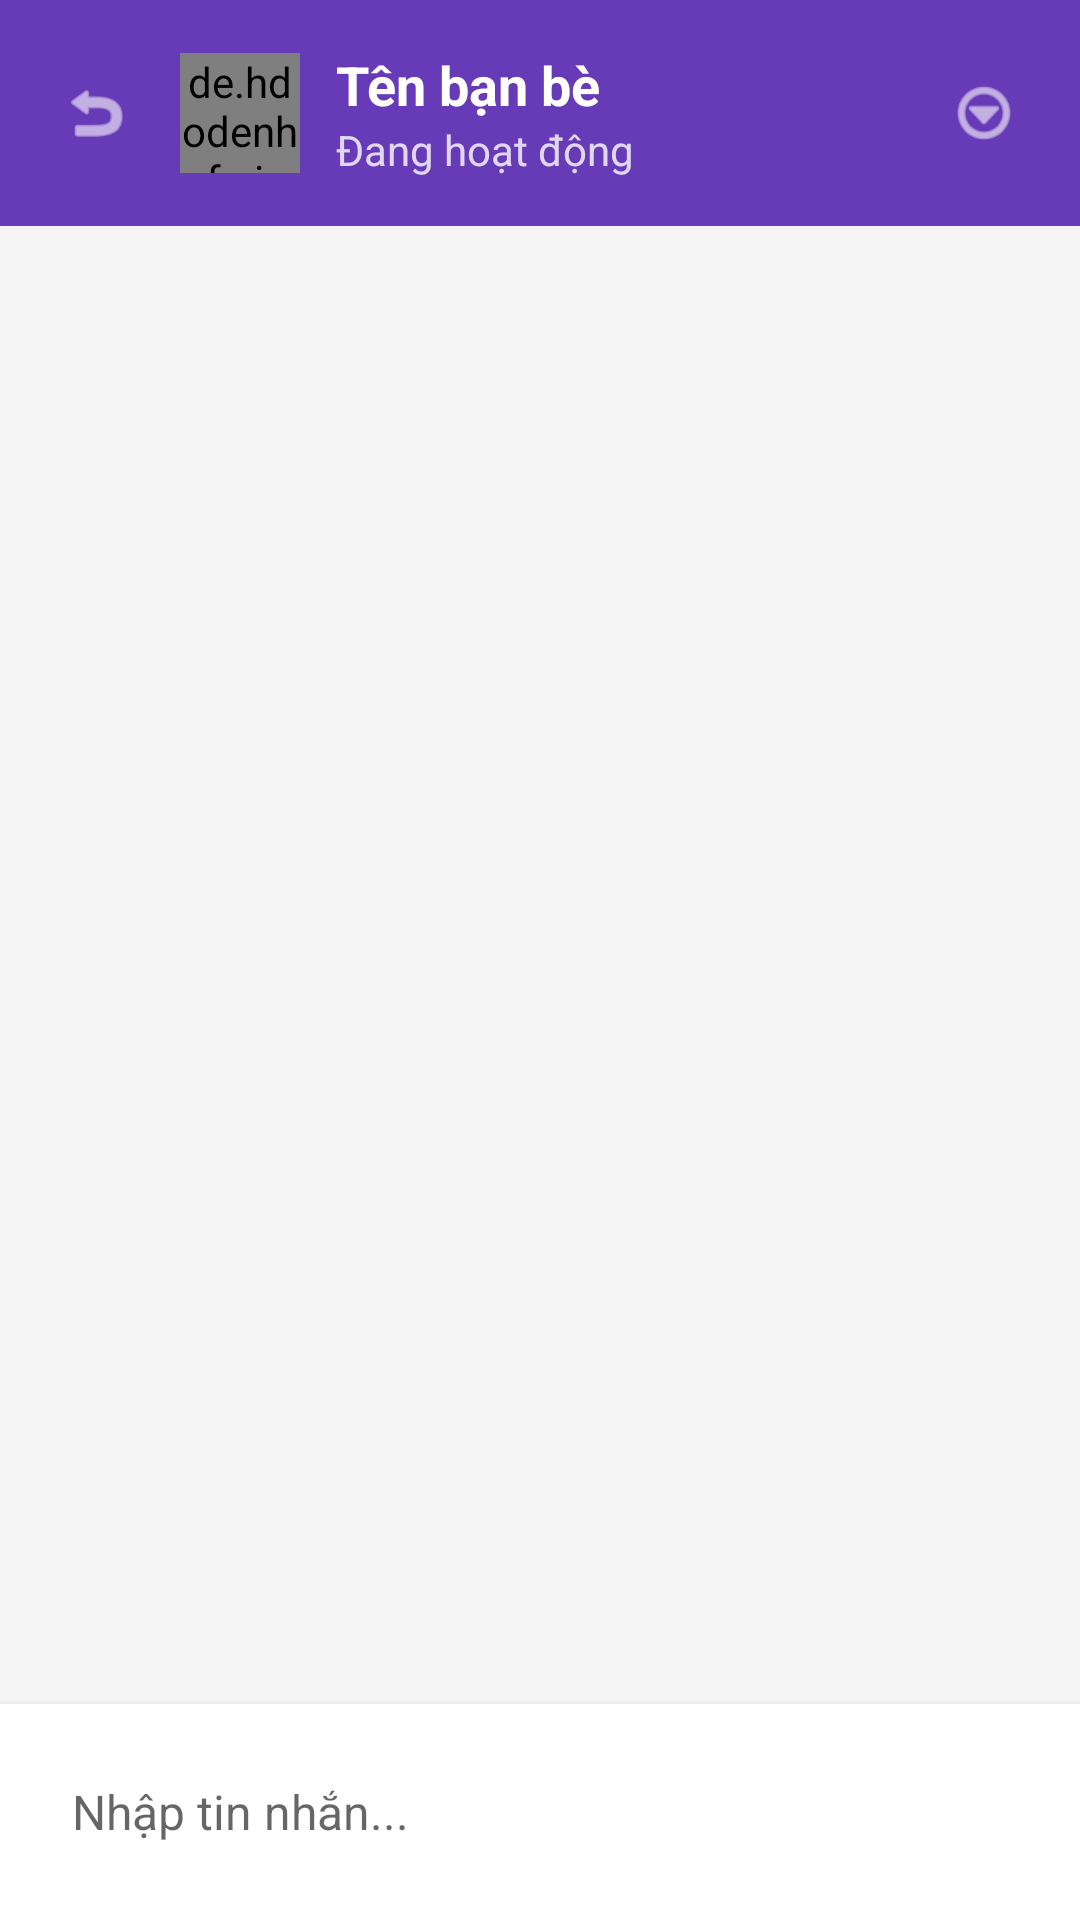

Screen size 1080px x 1920px. Icon name, then its center in pixels as point (x, y):
more: point (984, 113)
revert: point (97, 113)
